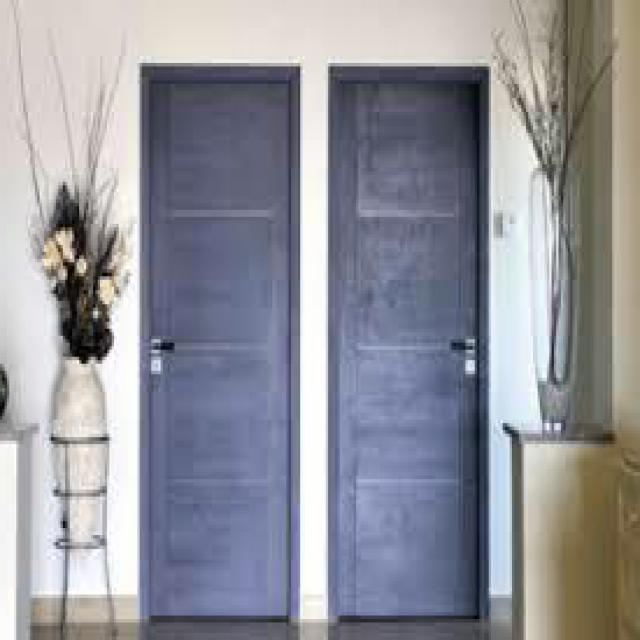door: (139, 63, 298, 623), (327, 65, 486, 621)
